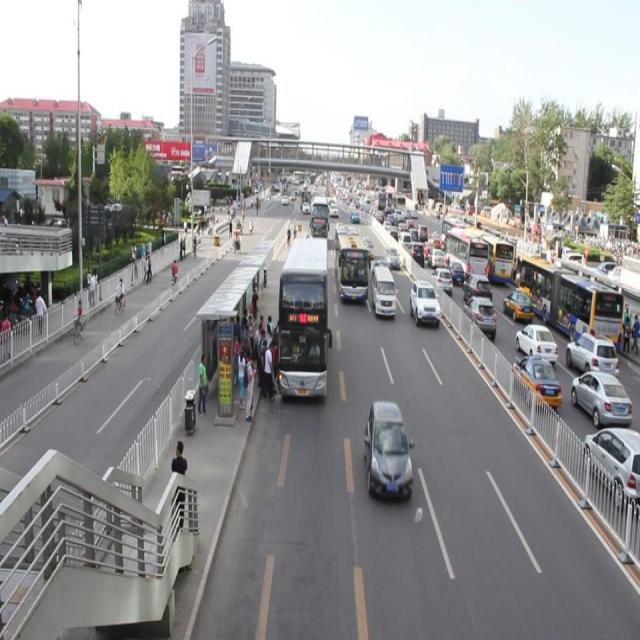car: (364, 399, 411, 499), (410, 280, 439, 330), (369, 253, 384, 274), (384, 247, 398, 269), (360, 236, 372, 259), (300, 197, 310, 215), (348, 211, 361, 224), (329, 202, 339, 218)
truck: (372, 266, 395, 318)
van: (280, 238, 327, 400), (334, 224, 366, 302), (311, 196, 328, 237)
